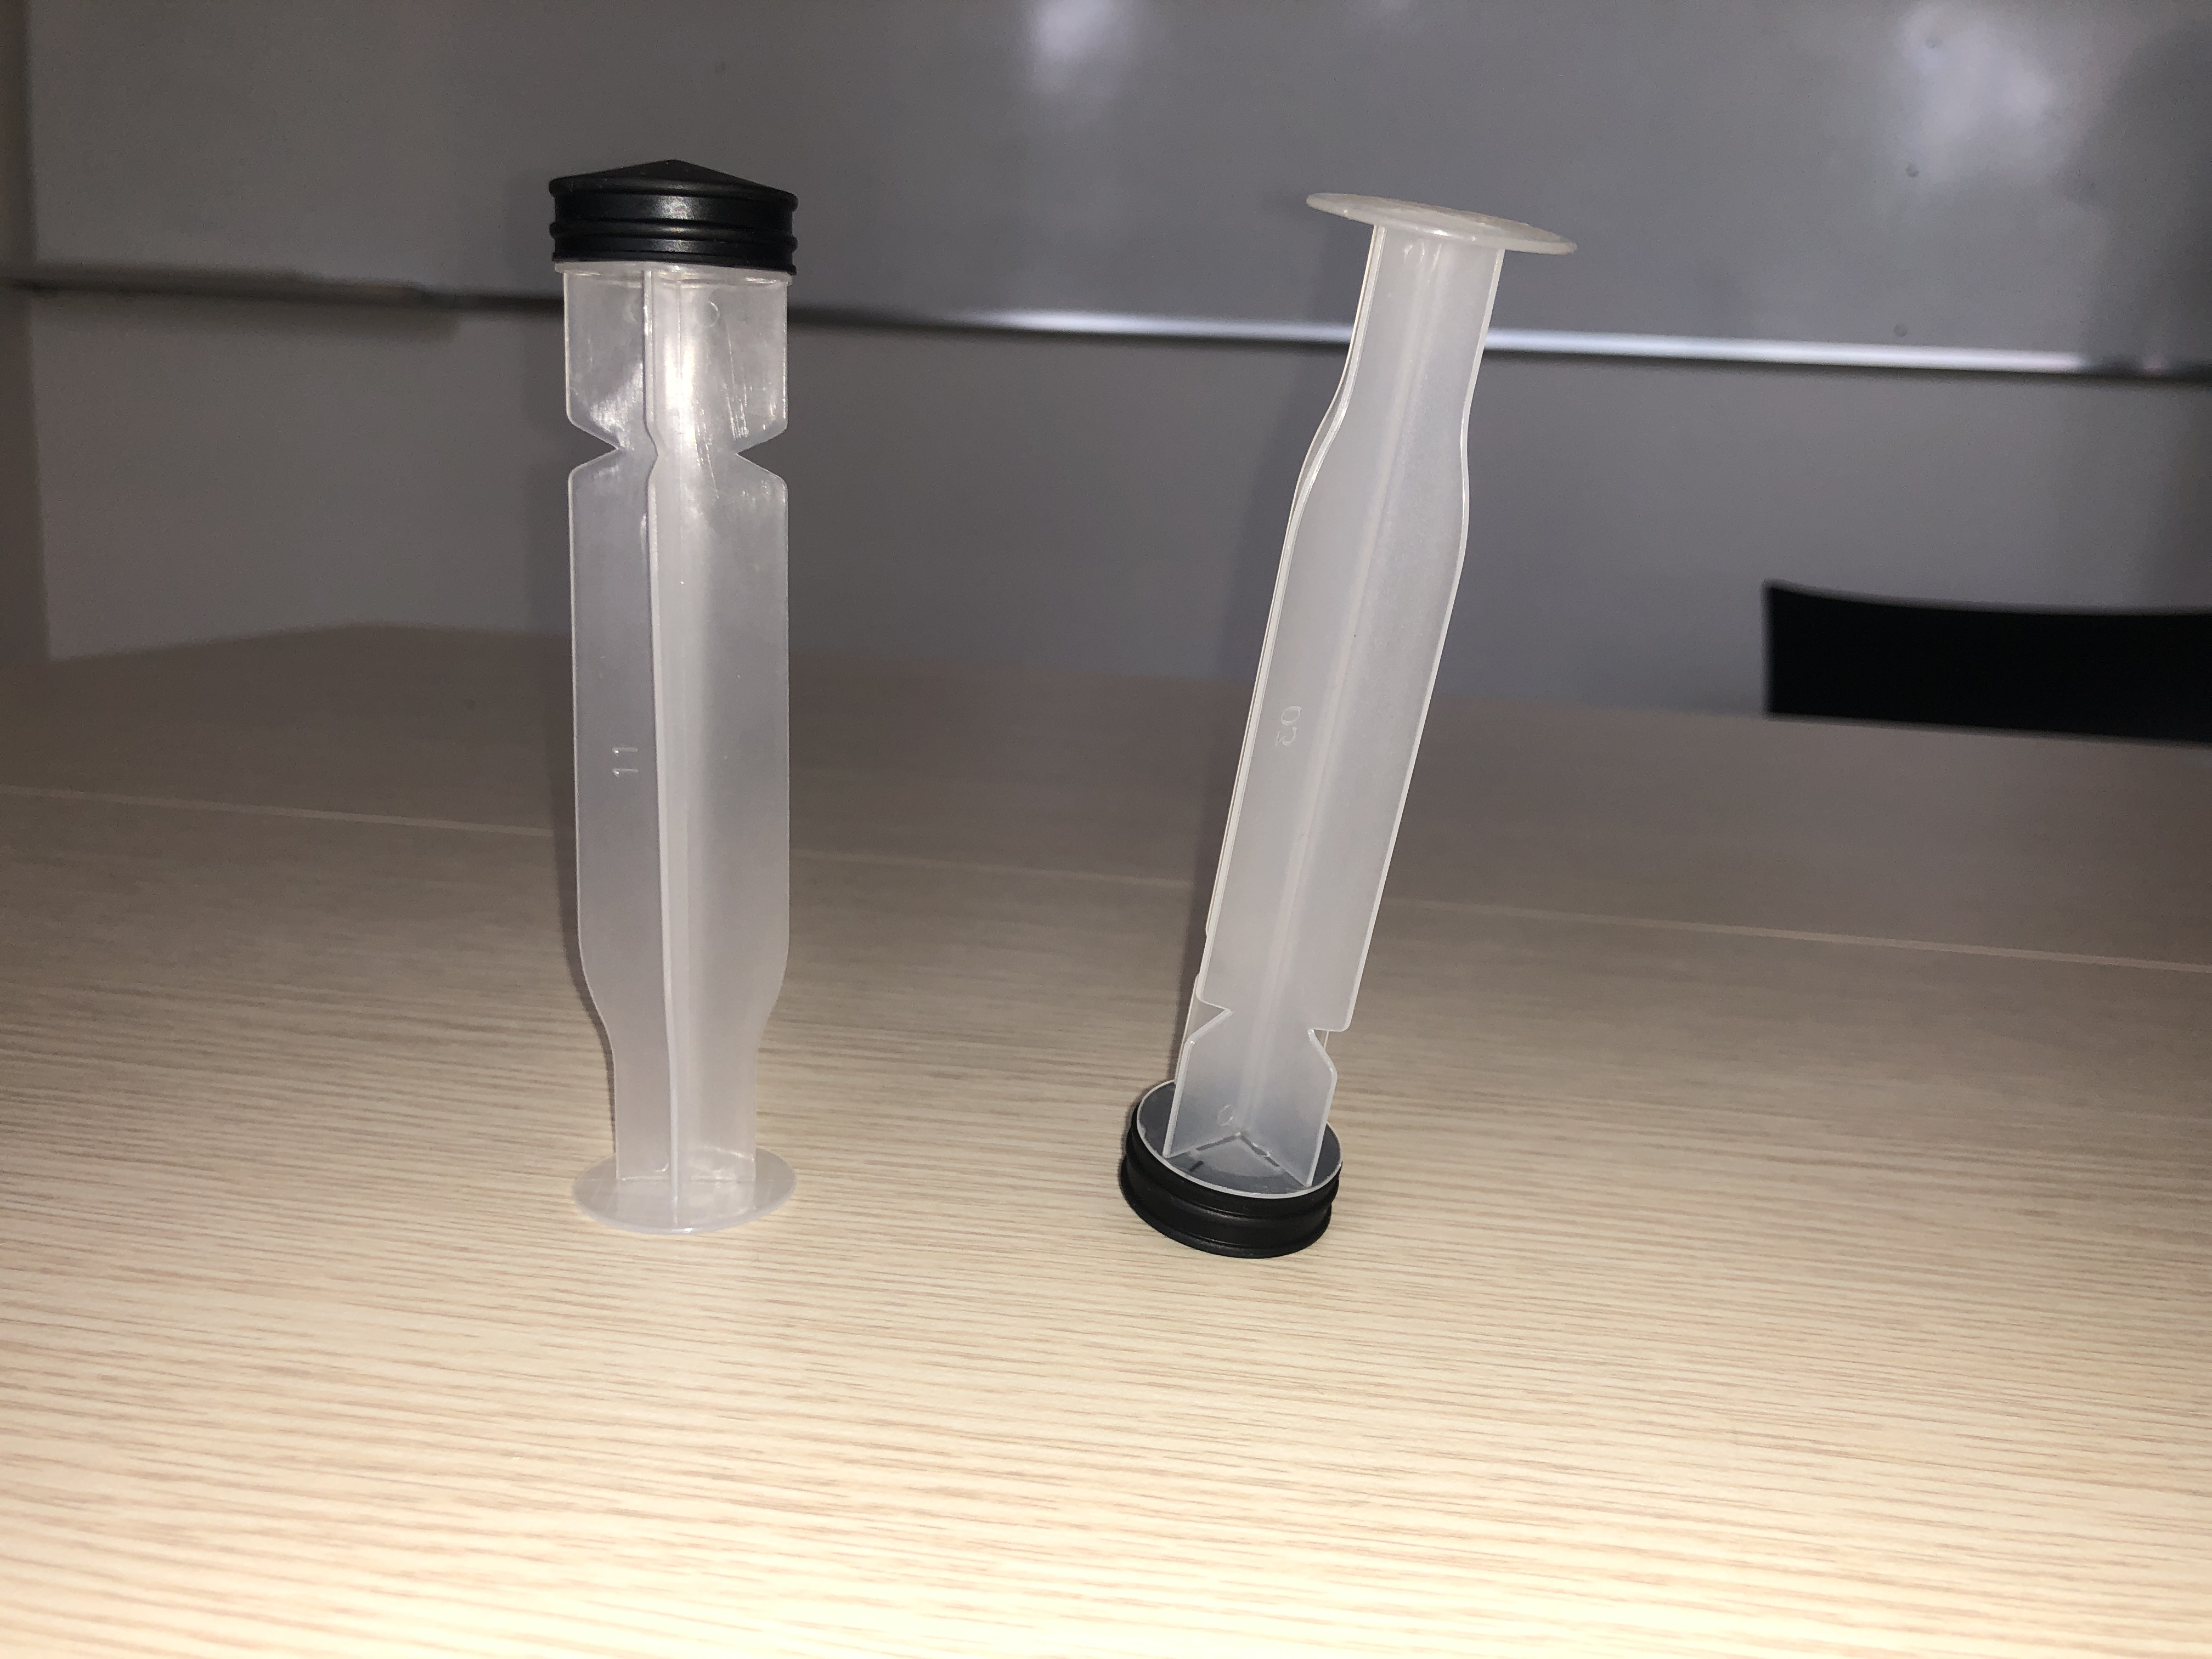plunger: (1109, 176, 1578, 1263), (535, 148, 820, 1237)
